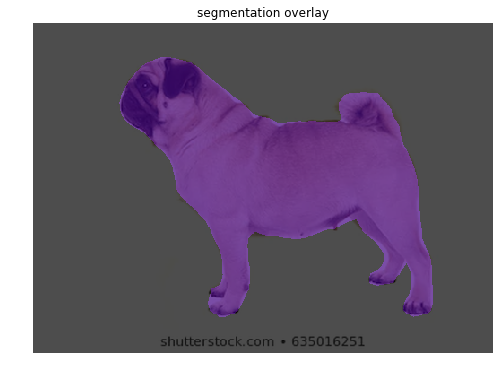unlabelled: (108, 42, 469, 365)
